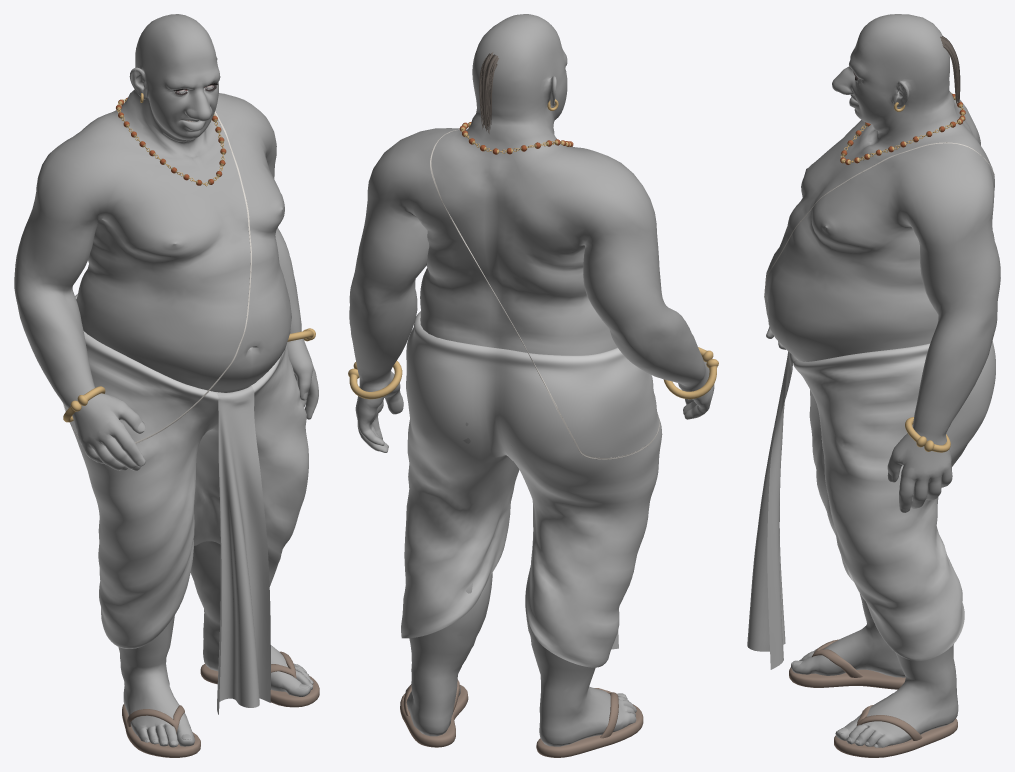
File: Charlie_Pandit_FBX02.fbx
3 renders of one model, left to right at view 1: azimuth 30°, elevation 25°; view 2: azimuth 150°, elevation 25°; view 3: azimuth 270°, elevation 25°, orthographic. The views are drawn at different scales.
Visible parts, largest first — view 1: polySurface1, polySurface239, polySurface240, polySurface238, polySurface96, polySurface241; view 2: polySurface1, polySurface239, polySurface240, polySurface241, polySurface233, polySurface96, polySurface238; view 3: polySurface1, polySurface239, polySurface240, polySurface238, polySurface241, polySurface233, polySurface96.
Boxes of the visible parts, x1,y1,x2,y2 form: polySurface1: (14,14,318,747); polySurface239: (63,294,308,714); polySurface240: (122,651,319,757); polySurface238: (116,97,226,186); polySurface96: (63,111,251,443); polySurface241: (63,328,315,422); polySurface1: (349,14,714,746); polySurface239: (401,311,662,667); polySurface240: (400,679,643,757); polySurface241: (348,347,718,399); polySurface233: (479,52,498,133); polySurface96: (430,129,659,459); polySurface238: (459,122,573,154); polySurface1: (764,14,1000,747); polySurface239: (747,341,995,669); polySurface240: (789,639,957,757); polySurface238: (840,93,965,164); polySurface241: (905,417,950,452); polySurface233: (940,36,960,104); polySurface96: (764,142,994,297).
Bounding box in the file's own units: 69.76 × 152 × 51.22.
Materials: 14 (3 with a texture image).
